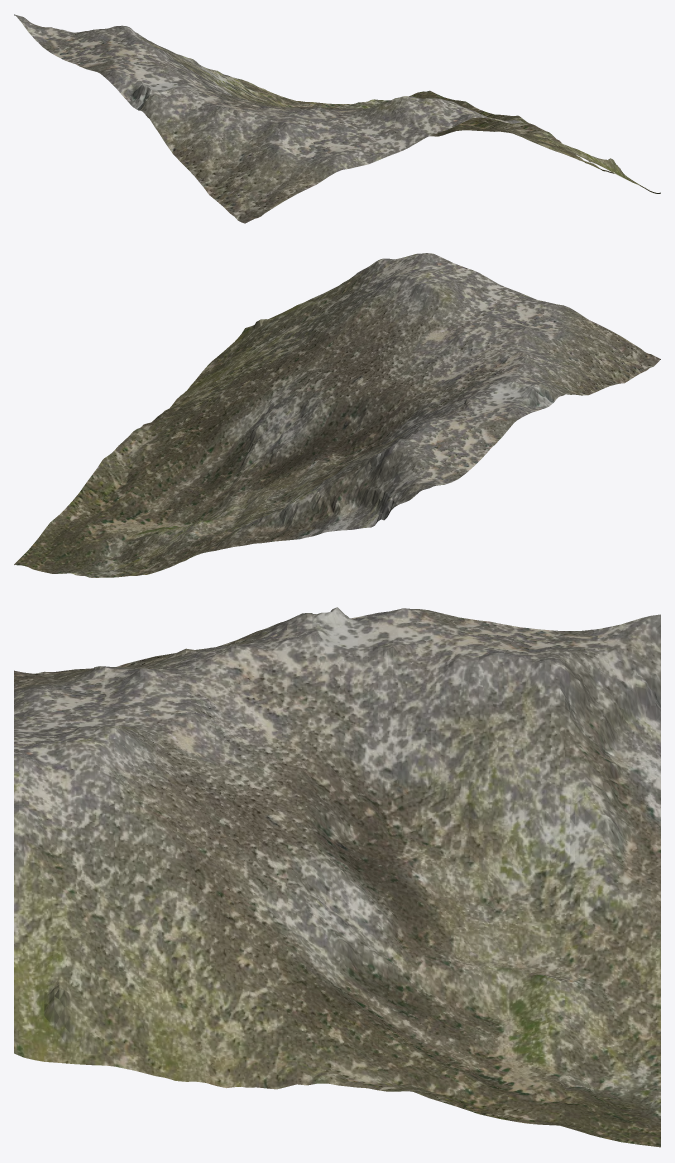
3 renders of one model, top to bottom at view 1: azimuth 30°, elevation 25°; view 2: azimuth 150°, elevation 25°; view 3: azimuth 270°, elevation 25°, orthographic. The views are drawn at different scales.
Size of the model in its own units: 1000 by 443 by 963.
Materials: 1 (1 with a texture image).
